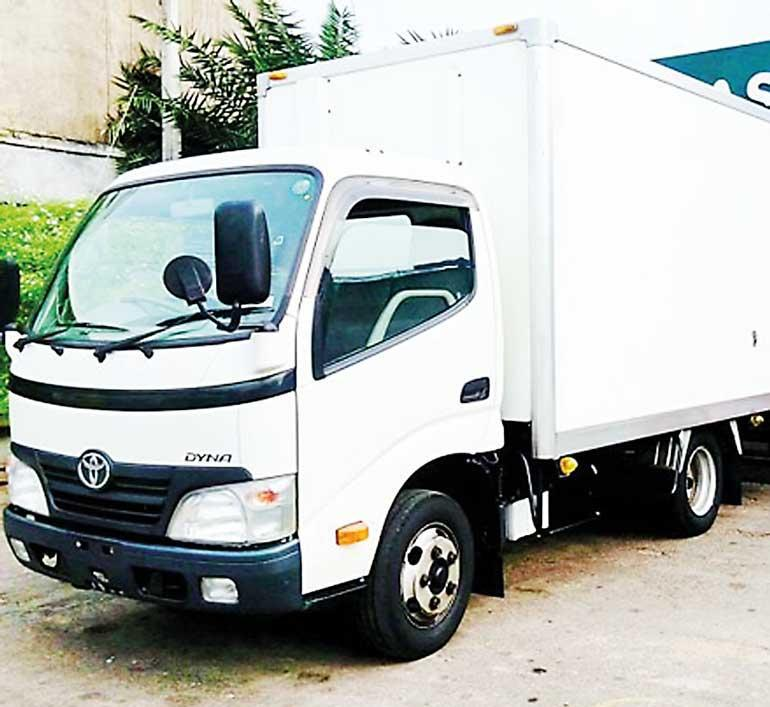truck: (1, 18, 770, 662)
